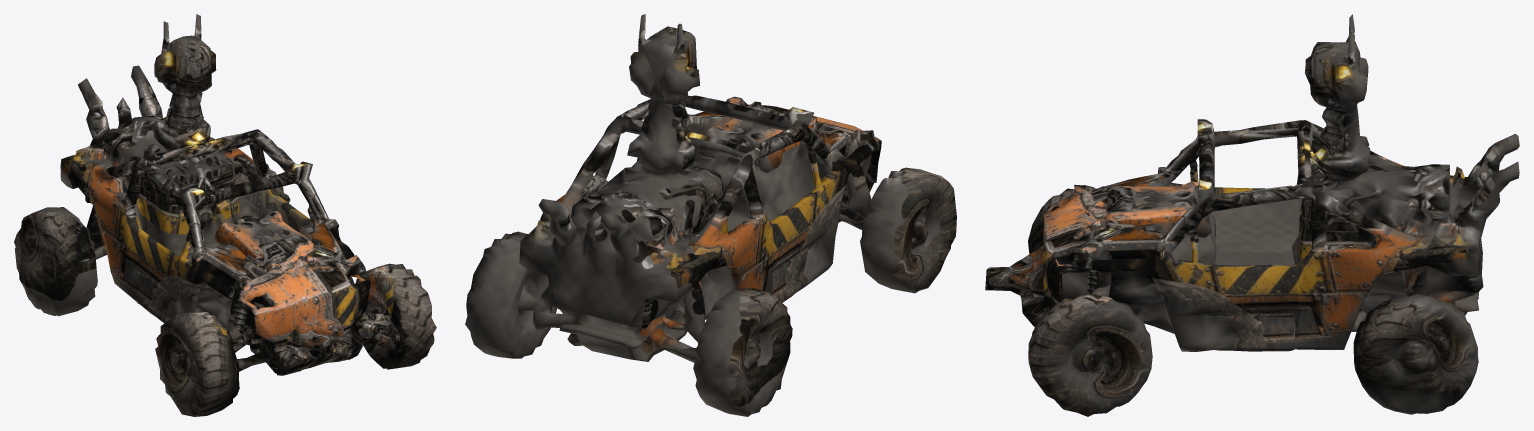
File: lookout_lod1.glb
3 renders of one model, left to right at view 1: azimuth 30°, elevation 25°; view 2: azimuth 150°, elevation 25°; view 3: azimuth 270°, elevation 25°, orthographic. The views are drawn at different scales.
Parts seen in each view (by area): view 1: geometry_0; view 2: geometry_0; view 3: geometry_0.
Boxes of the visible parts, left/top/right/bottom form: geometry_0: left=14, top=14, right=436, bottom=416; geometry_0: left=465, top=14, right=956, bottom=416; geometry_0: left=985, top=14, right=1519, bottom=416.
Bounding box in the file's own units: 1.15 × 1.36 × 1.99.
1 material, 1 textured.
